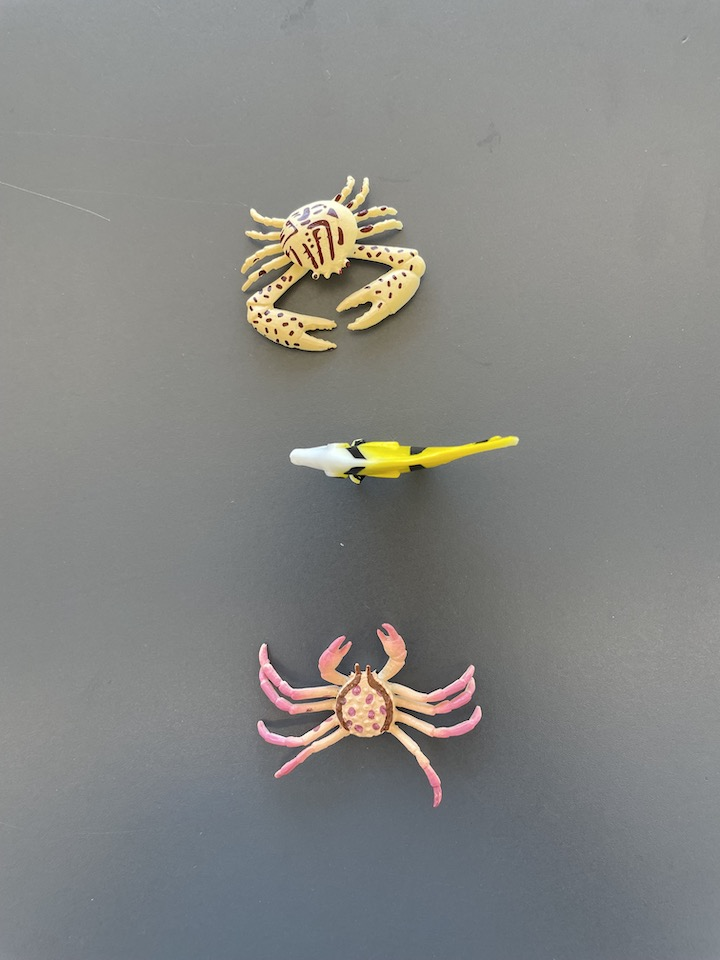crab: (256, 623, 484, 811), (240, 174, 427, 352)
danger: (287, 432, 521, 486)
